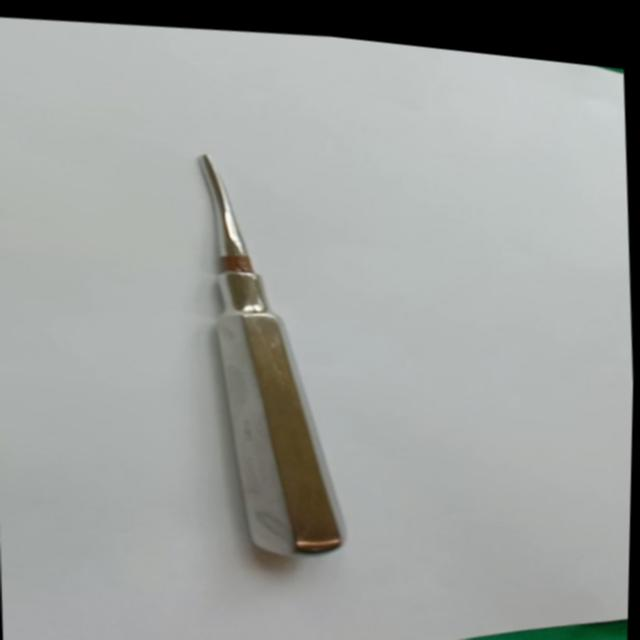Coupland1: (182, 131, 370, 567)
